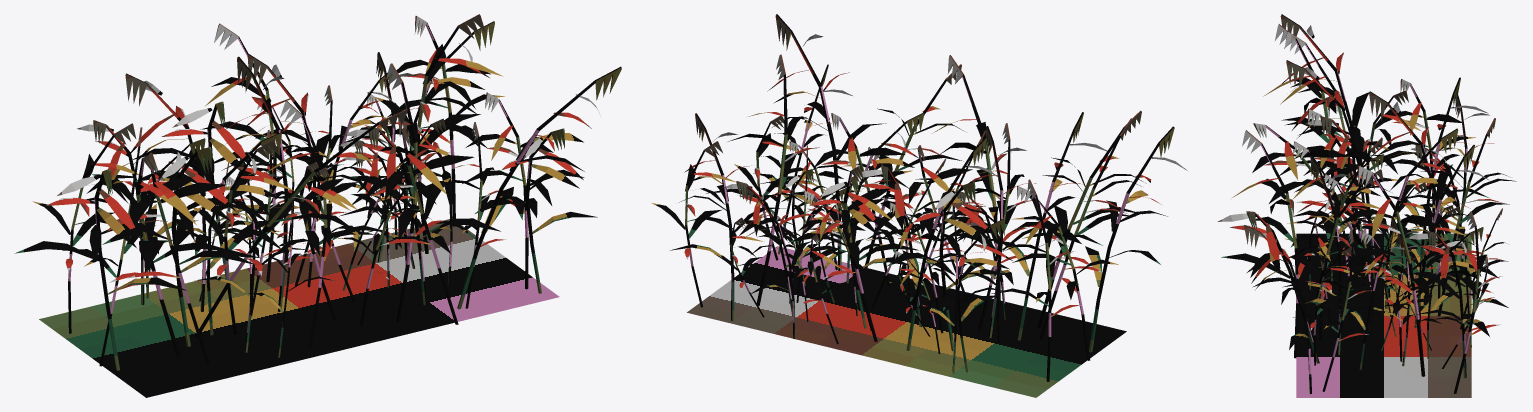
The model's file is Canes.fbx.
3 views of the same model, side by side, from view 1: azimuth 30°, elevation 25°; view 2: azimuth 150°, elevation 25°; view 3: azimuth 270°, elevation 25° (orthographic). The views are drawn at different scales.
Parts seen in each view (by area): view 1: CaneBatch, CaneBatch|Сane.001|Dupli|31.1, CaneBatch|Сane|Dupli|35, CaneBatch|Сane|Dupli|42, CaneBatch|Сane.001|Dupli|23.1, CaneBatch|Сane|Dupli|30, CaneBatch|Сane.001|Dupli|26.1, CaneBatch|Сane|Dupli|48, CaneBatch|Сane.001|Dupli|33.1, CaneBatch|Сane.001|Dupli|38.1, CaneBatch|Сane|Dupli|27, CaneBatch|Сane|Dupli|39 (+30 smaller); view 2: CaneBatch, CaneBatch|Сane.001|Dupli|25.1, CaneBatch|Сane.001|Dupli|31.1, CaneBatch|Сane|Dupli|29, CaneBatch|Сane|Dupli|48, CaneBatch|Сane.001|Dupli|26.1, CaneBatch|Сane|Dupli|30, CaneBatch|Сane|Dupli|35, CaneBatch|Сane.001|Dupli|23.1, CaneBatch|Сane.001|Dupli|38.1, CaneBatch|Сane.001|Dupli|21.1, CaneBatch|Сane|Dupli|46 (+29 smaller); view 3: CaneBatch, CaneBatch|Сane|Dupli|48, CaneBatch|Сane.001|Dupli|26.1, CaneBatch|Сane|Dupli|30, CaneBatch|Сane.001|Dupli|34.1, CaneBatch|Сane|Dupli|42, CaneBatch|Сane.001|Dupli|38.1, CaneBatch|Сane.001|Dupli|23.1, CaneBatch|Сane.001|Dupli|31.1, CaneBatch|Сane.001|Dupli|33.1, CaneBatch|Сane.001|Dupli|30.1, CaneBatch|Сane|Dupli|38 (+33 smaller).
Part boxes in pixels (x1,y1,x2,y2): CaneBatch: [39, 218, 559, 397]; CaneBatch|Сane.001|Dupli|31.1: [14, 169, 186, 370]; CaneBatch|Сane|Dupli|35: [120, 152, 254, 362]; CaneBatch|Сane|Dupli|42: [371, 127, 500, 324]; CaneBatch|Сane.001|Dupli|23.1: [102, 147, 260, 346]; CaneBatch|Сane|Dupli|30: [195, 109, 407, 337]; CaneBatch|Сane.001|Dupli|26.1: [457, 66, 621, 309]; CaneBatch|Сane|Dupli|48: [374, 14, 502, 253]; CaneBatch|Сane.001|Dupli|33.1: [475, 128, 597, 293]; CaneBatch|Сane.001|Dupli|38.1: [132, 101, 289, 292]; CaneBatch|Сane|Dupli|27: [107, 154, 232, 356]; CaneBatch|Сane|Dupli|39: [193, 140, 294, 334]; CaneBatch: [687, 246, 1126, 397]; CaneBatch|Сane.001|Dupli|25.1: [886, 181, 1010, 351]; CaneBatch|Сane.001|Dupli|31.1: [1085, 126, 1187, 352]; CaneBatch|Сane|Dupli|29: [822, 166, 920, 341]; CaneBatch|Сane|Dupli|48: [706, 54, 819, 306]; CaneBatch|Сane.001|Dupli|26.1: [766, 14, 886, 270]; CaneBatch|Сane|Dupli|30: [932, 55, 1029, 342]; CaneBatch|Сane|Dupli|35: [1011, 110, 1146, 328]; CaneBatch|Сane.001|Dupli|23.1: [1002, 112, 1106, 340]; CaneBatch|Сane.001|Dupli|38.1: [902, 136, 1000, 350]; CaneBatch|Сane.001|Dupli|21.1: [788, 176, 908, 328]; CaneBatch|Сane|Dupli|46: [1012, 186, 1118, 360]; CaneBatch: [1296, 233, 1471, 397]; CaneBatch|Сane|Dupli|48: [1339, 165, 1464, 376]; CaneBatch|Сane.001|Dupli|26.1: [1217, 211, 1342, 363]; CaneBatch|Сane|Dupli|30: [1252, 123, 1377, 273]; CaneBatch|Сane.001|Dupli|34.1: [1406, 231, 1489, 378]; CaneBatch|Сane|Dupli|42: [1231, 130, 1323, 358]; CaneBatch|Сane.001|Dupli|38.1: [1368, 91, 1452, 298]; CaneBatch|Сane.001|Dupli|23.1: [1286, 60, 1366, 265]; CaneBatch|Сane.001|Dupli|31.1: [1280, 14, 1369, 232]; CaneBatch|Сane.001|Dupli|33.1: [1244, 225, 1311, 393]; CaneBatch|Сane.001|Dupli|30.1: [1385, 128, 1458, 308]; CaneBatch|Сane|Dupli|38: [1378, 79, 1475, 232].
Size of the model in its own units: 714 by 331 by 417.
